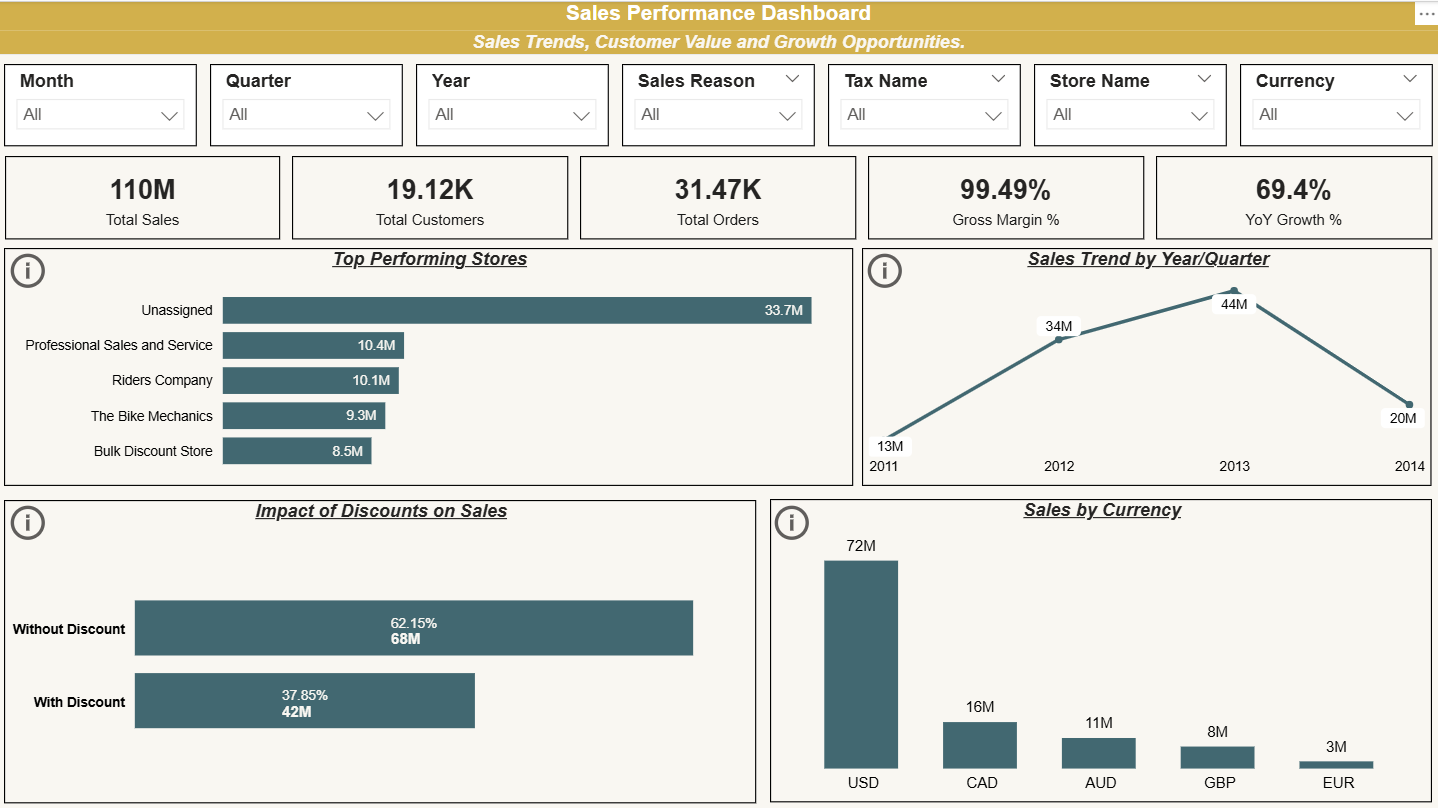

Layout of this report page (visuals, bound fields, positions):
{"tool":"powerbi","page":{"name":"Sales","canvas":[1280,720],"ordinal":0},"visuals":[{"type":"card","fields":{"Values":["Sum(SalesData.OrderValue)"]},"box":[7.1,137.4,243.8,74.5],"z":0},{"type":"card","fields":{"Values":["SalesMeasures.YoY Growth %"]},"box":[1027.7,137.4,244.7,74.5],"z":1000},{"type":"lineChart","title":"Sales Trend by Year/Quarter","fields":{"Category":["SalesData.OrderYear","SalesData.OrderQuarter","SalesData.OrderMonth"],"Y":["Sum(SalesData.OrderValue)"]},"box":[767,219,505.4,211],"z":2000},{"type":"barChart","title":"Top Performing Stores","fields":{"Category":["SalesData.StoreName"],"Y":["Sum(SalesData.OrderValue)"]},"box":[6.2,219,752.8,211],"z":3000},{"type":"slicer","fields":{"Values":["Date.MonthName"]},"box":[6.3,55.9,170.9,72.8],"z":4000},{"type":"shape","title":"Sales Performance Dashboard","box":[0,0,1279.6,47.6],"z":5000},{"type":"card","fields":{"Values":["Count(SalesData.CustomerID)"]},"box":[261.6,137.4,244.7,74.5],"z":6000},{"type":"card","fields":{"Values":["Count(SalesData.SalesOrderID)"]},"box":[516.9,137.4,244.7,74.5],"z":7000},{"type":"card","fields":{"Values":["SalesMeasures.Gross_Margin %"]},"box":[772.3,137.4,244.7,74.5],"z":8000},{"type":"slicer","fields":{"Values":["Date.Quarter"]},"box":[188.7,55.9,170.9,72.8],"z":9000},{"type":"slicer","fields":{"Values":["SalesData.SalesReason"]},"box":[554.1,55.9,170.9,72.8],"z":10000},{"type":"slicer","fields":{"Values":["SalesData.SalesTaxName"]},"box":[736.7,55.9,170.9,72.8],"z":11000},{"type":"slicer","fields":{"Values":["SalesData.StoreName"]},"box":[919.4,55.9,170.9,72.8],"z":12000},{"type":"slicer","fields":{"Values":["SalesData.Currency"]},"box":[1102,55.6,170.5,73.2],"z":13000},{"type":"slicer","fields":{"Values":["Date.Year"]},"box":[371.4,55.9,170.9,72.8],"z":14000},{"type":"columnChart","title":"Sales by Currency","fields":{"Category":["SalesData.Currency"],"Y":["Sum(SalesData.OrderValue)"]},"box":[685.4,442,587.2,269],"z":15000},{"type":"barChart","title":"Impact of Discounts on Sales","fields":{"Y":["Sum(SalesData.OrderValue)"],"Category":["SalesData.Discount_Flag"]},"box":[6.3,442.1,666.9,269.1],"z":16000},{"type":"actionButton","box":[7.1,219.2,40.4,40.4],"z":18000},{"type":"actionButton","box":[766.8,219.2,40.4,40.4],"z":19000},{"type":"actionButton","box":[7.1,442.5,40.4,40.4],"z":20000},{"type":"actionButton","box":[685,442.5,40.4,40.4],"z":21000}]}

Visuals, with their boxes in screenshot pixels (x1, y1, x2, y2), scaled from the page's 1280x720 canvas onto the 1438x808 screenshot:
card - Sum(SalesData.OrderValue): [x1=8, y1=154, x2=282, y2=238]
card - SalesMeasures.YoY Growth %: [x1=1155, y1=154, x2=1429, y2=238]
"Sales Trend by Year/Quarter" lineChart: [x1=862, y1=246, x2=1429, y2=483]
"Top Performing Stores" barChart: [x1=7, y1=246, x2=853, y2=483]
slicer - Date.MonthName: [x1=7, y1=63, x2=199, y2=144]
"Sales Performance Dashboard" shape: [x1=0, y1=0, x2=1437, y2=53]
card - Count(SalesData.CustomerID): [x1=294, y1=154, x2=569, y2=238]
card - Count(SalesData.SalesOrderID): [x1=581, y1=154, x2=856, y2=238]
card - SalesMeasures.Gross_Margin %: [x1=868, y1=154, x2=1143, y2=238]
slicer - Date.Quarter: [x1=212, y1=63, x2=404, y2=144]
slicer - SalesData.SalesReason: [x1=622, y1=63, x2=814, y2=144]
slicer - SalesData.SalesTaxName: [x1=828, y1=63, x2=1020, y2=144]
slicer - SalesData.StoreName: [x1=1033, y1=63, x2=1225, y2=144]
slicer - SalesData.Currency: [x1=1238, y1=62, x2=1430, y2=145]
slicer - Date.Year: [x1=417, y1=63, x2=609, y2=144]
"Sales by Currency" columnChart: [x1=770, y1=496, x2=1430, y2=798]
"Impact of Discounts on Sales" barChart: [x1=7, y1=496, x2=756, y2=798]
actionButton: [x1=8, y1=246, x2=53, y2=291]
actionButton: [x1=861, y1=246, x2=907, y2=291]
actionButton: [x1=8, y1=497, x2=53, y2=542]
actionButton: [x1=770, y1=497, x2=815, y2=542]
